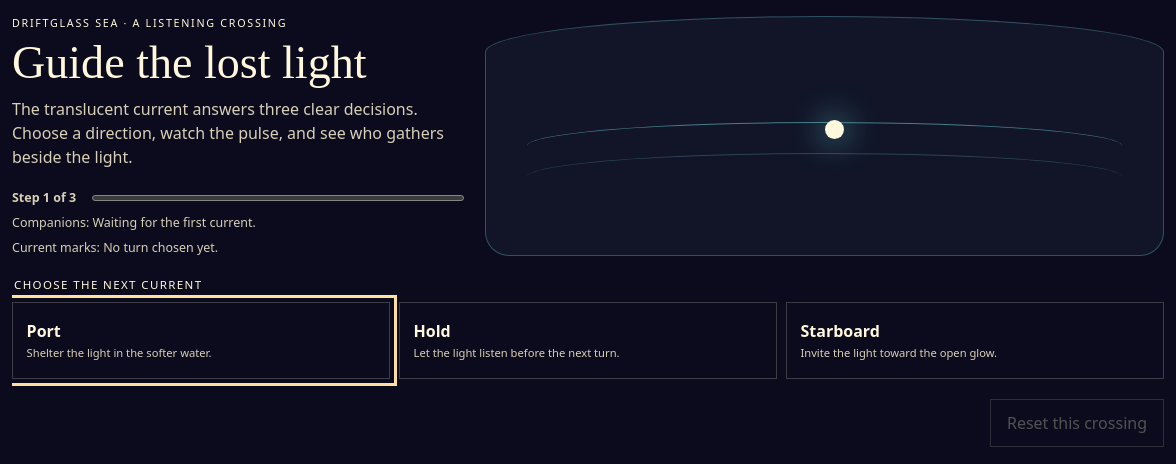
it: DriftglassExperience › offers three semantic current decisions and keeps step, pulse, and companions live
Expected: the heading "Guide the lost light" is shown, top-left (12, 37), bottom-right (366, 88)
Expected: the number of buttons "Port Shelter the light in the softer water." is 3, top-left (12, 302), bottom-right (390, 379); top-left (399, 302), bottom-right (777, 379); top-left (786, 302), bottom-right (1164, 379)
Press Enter
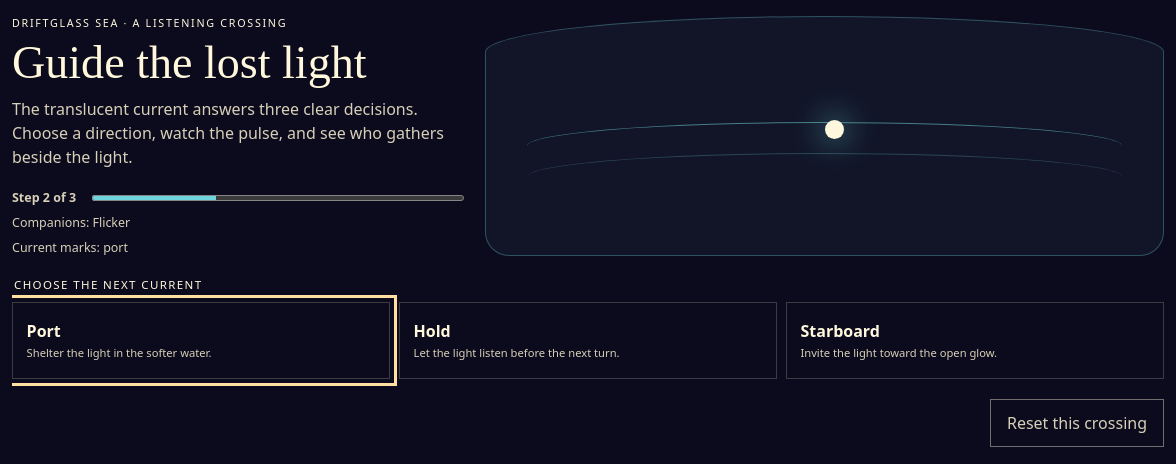
Expected: the text "Step 2 of 3" is shown, top-left (12, 189), bottom-right (76, 206)
Expected: the element named "Companions gathering" shows "Flicker", top-left (92, 214), bottom-right (130, 231)
Click the button "Hold" at (432, 330), box top-left (399, 302), bottom-right (777, 379)
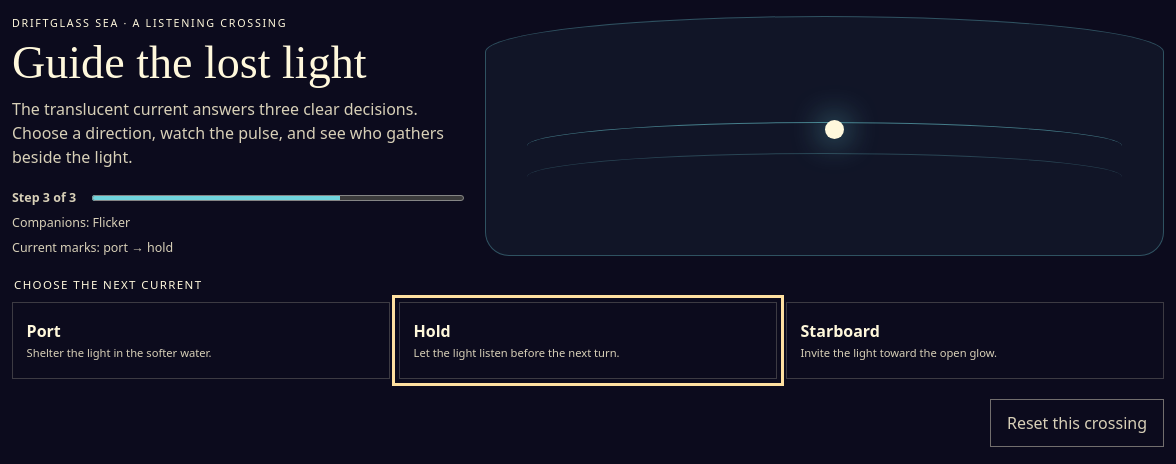
Click the button "Port" at (44, 330), box top-left (12, 302), bottom-right (390, 379)
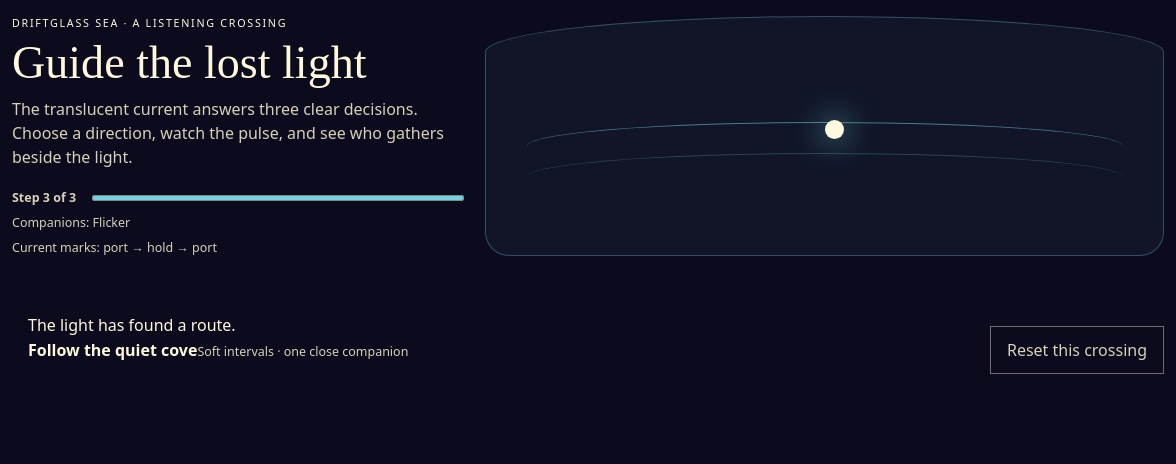
Expected: the message shows "Follow the quiet cove", top-left (28, 339), bottom-right (197, 361)
